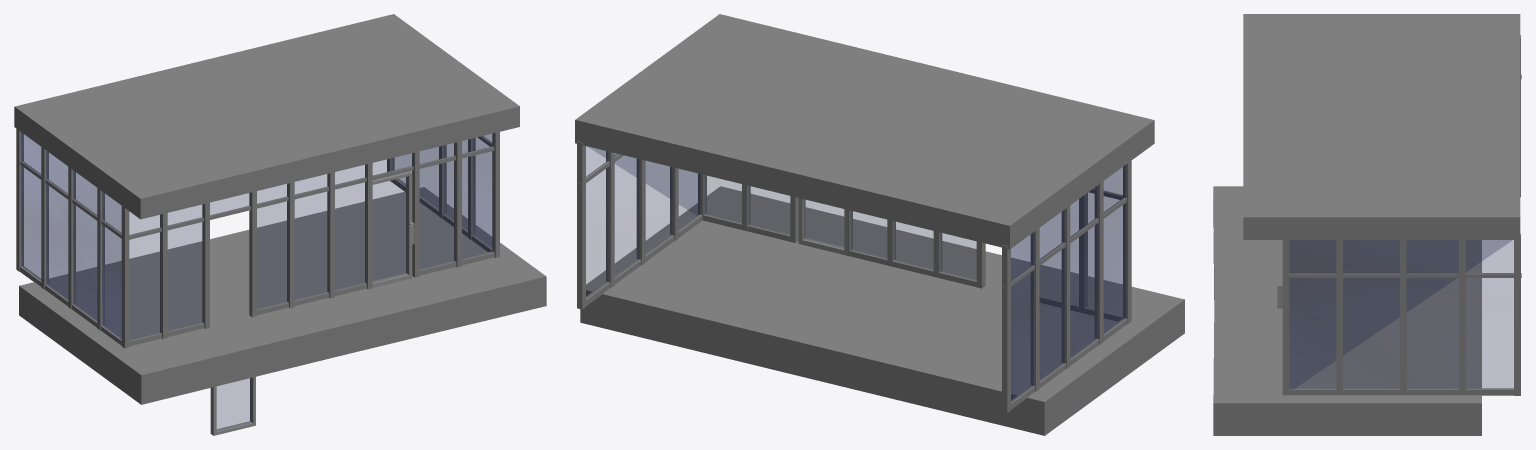
File: Shop_entrance.FBX
The picture shows the model from 3 angles, left to right: view 1: azimuth 30°, elevation 25°; view 2: azimuth 150°, elevation 25°; view 3: azimuth 270°, elevation 25°; orthographic projection. The views are drawn at different scales.
Parts seen in each view (by area): view 1: shop_entrance_002, Shop_door_type1_005, Shop_door_type1_006; view 2: shop_entrance_002, Shop_door_type1_005; view 3: shop_entrance_002.
Boxes of the visible parts, bbox=[...] form: shop_entrance_002: bbox=[14, 14, 546, 404]; Shop_door_type1_005: bbox=[372, 171, 414, 287]; Shop_door_type1_006: bbox=[210, 377, 255, 435]; shop_entrance_002: bbox=[575, 14, 1184, 435]; Shop_door_type1_005: bbox=[798, 198, 847, 255]; shop_entrance_002: bbox=[1213, 14, 1521, 435].
Bounding box in the file's own units: 2456 × 1566 × 1474.
